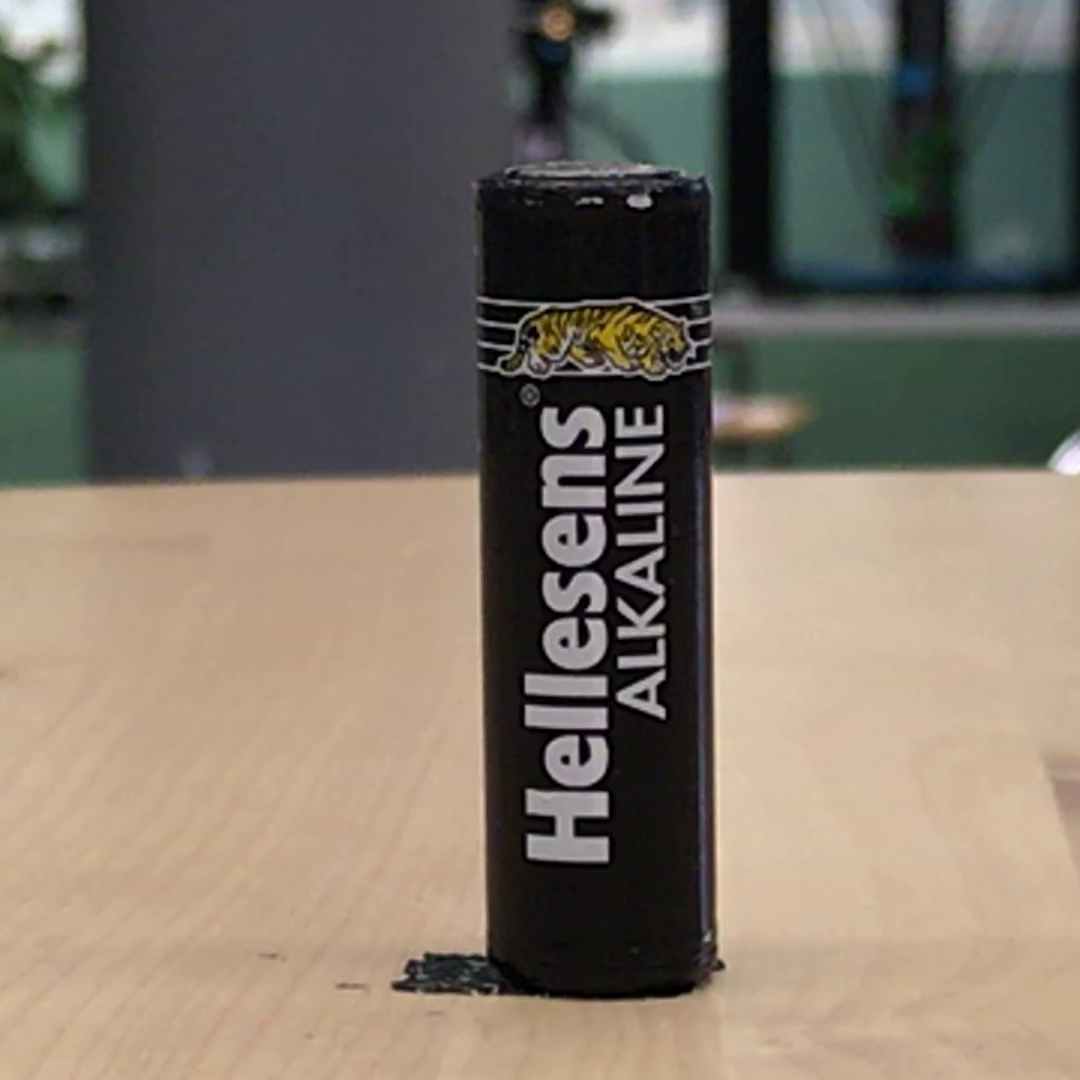keyword: (606, 396, 675, 728)
